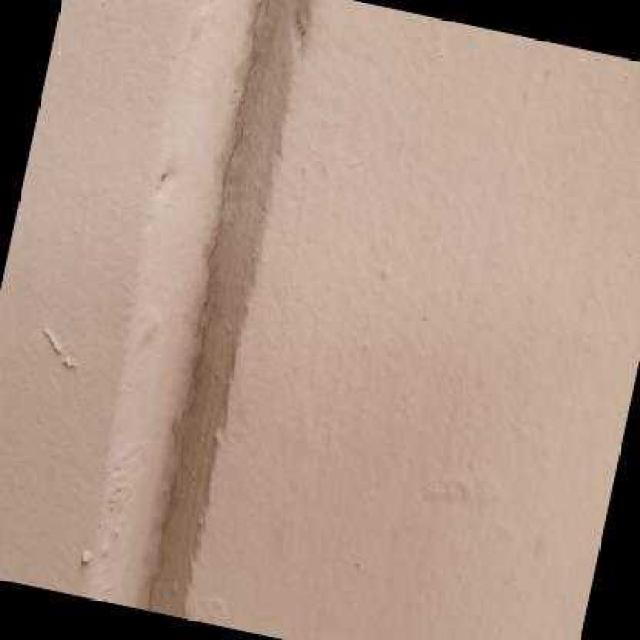D00: (142, 0, 266, 608)
